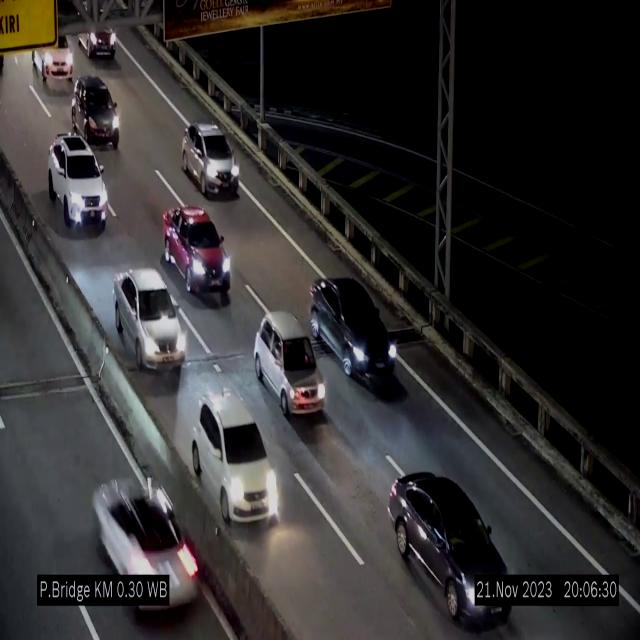Car: (389, 472, 516, 626), (86, 463, 202, 624), (178, 356, 280, 524), (309, 276, 400, 398), (108, 264, 186, 375), (254, 312, 326, 418), (162, 205, 230, 300), (49, 135, 111, 232), (68, 72, 124, 154), (182, 121, 240, 197), (32, 35, 74, 87), (78, 23, 122, 62)
